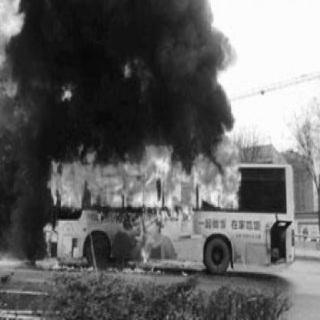Fire: (50, 114, 242, 224), (31, 226, 93, 272), (111, 233, 165, 284)
Smoke: (0, 3, 236, 134), (2, 127, 50, 266)
